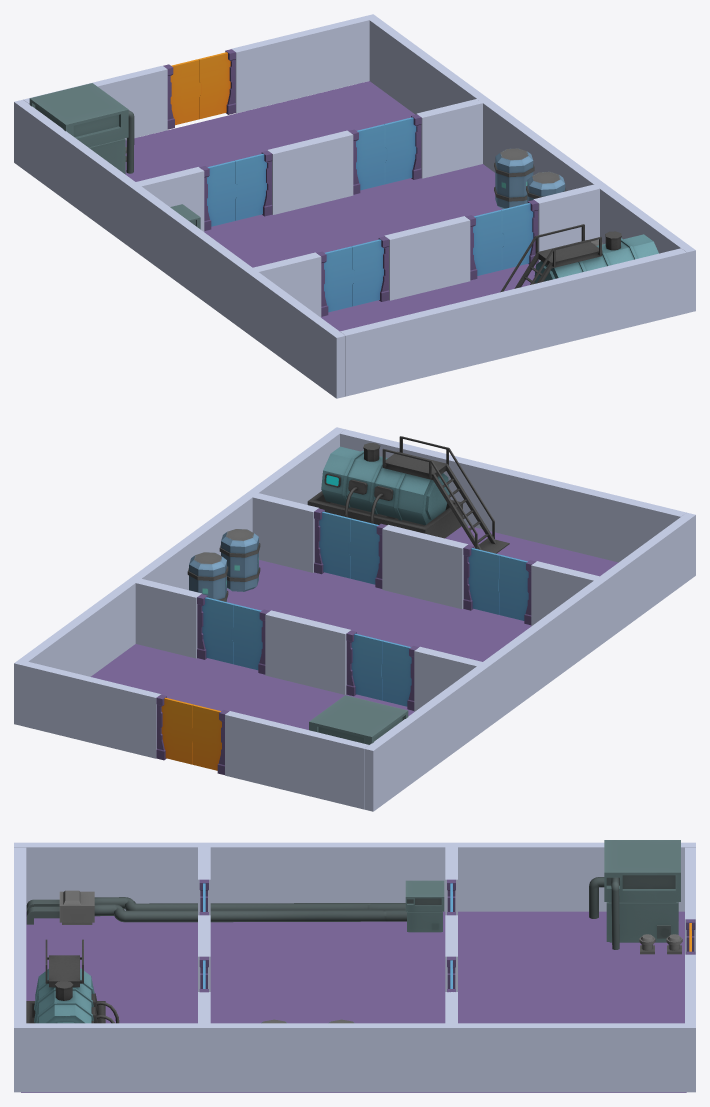
The model's file is maps_02.fbx.
The picture shows the model from 3 angles, top to bottom: view 1: azimuth 30°, elevation 25°; view 2: azimuth 150°, elevation 25°; view 3: azimuth 270°, elevation 25°; orthographic projection. The views are drawn at different scales.
Visible parts, largest first — view 1: wall_01_05_geo, wall_01_01_geo, wall_01_03_geo, wall_01_02_geo, wall_01_12_geo, door_01_geo (×4), door_02_geo (×4), wall_01_06_geo, wall_01_10_geo, generatorStation_05_geo, wall_01_11_geo, tankwater_geo (+10 smaller); view 2: wall_01_05_geo, wall_01_01_geo, wall_01_03_geo, wall_01_02_geo, tankwater_geo, wall_01_04_geo, wall_01_12_geo, door_01_geo (×4), door_02_geo (×4), wall_01_10_geo, wall_01_06_geo, wall_01_11_geo (+10 smaller); view 3: wall_01_05_geo, wall_01_02_geo, wall_01_01_geo, generatorStation_04_geo, generatorStation_05_geo, tankwater_geo, wall_01_03_geo, wall_01_04_geo, wall_01_12_geo, wall_01_06_geo, wall_01_10_geo, wall_01_07_geo (+4 smaller).
Boxes of the visible parts, x1=… form: wall_01_05_geo: x1=125, y1=81, x2=535, y2=331; wall_01_01_geo: x1=14, y1=99, x2=345, y2=398; wall_01_03_geo: x1=340, y1=248, x2=686, y2=396; wall_01_02_geo: x1=365, y1=14, x2=695, y2=313; wall_01_12_geo: x1=231, y1=16, x2=369, y2=113; door_01_geo (×4): x1=235, y1=117, x2=533, y2=306; door_02_geo (×4): x1=207, y1=124, x2=503, y2=312; wall_01_06_geo: x1=384, y1=216, x2=470, y2=300; wall_01_10_geo: x1=267, y1=130, x2=353, y2=214; generatorStation_05_geo: x1=29, y1=83, x2=134, y2=174; wall_01_11_geo: x1=416, y1=99, x2=482, y2=178; tankwater_geo: x1=500, y1=224, x2=658, y2=292; wall_01_05_geo: x1=91, y1=525, x2=618, y2=729; wall_01_01_geo: x1=364, y1=512, x2=695, y2=811; wall_01_03_geo: x1=340, y1=429, x2=686, y2=562; wall_01_02_geo: x1=14, y1=427, x2=345, y2=726; tankwater_geo: x1=307, y1=436, x2=509, y2=553; wall_01_04_geo: x1=225, y1=711, x2=368, y2=809; wall_01_12_geo: x1=23, y1=661, x2=161, y2=758; door_01_geo (×4): x1=202, y1=511, x2=500, y2=700; door_02_geo (×4): x1=232, y1=518, x2=528, y2=706; wall_01_10_geo: x1=265, y1=610, x2=351, y2=694; wall_01_06_geo: x1=382, y1=524, x2=468, y2=609; wall_01_11_geo: x1=135, y1=578, x2=201, y2=658; wall_01_05_geo: x1=21, y1=911, x2=686, y2=1092; wall_01_02_geo: x1=14, y1=1023, x2=695, y2=1092; wall_01_01_geo: x1=14, y1=842, x2=695, y2=911; generatorStation_04_geo: x1=26, y1=880, x2=444, y2=932; generatorStation_05_geo: x1=589, y1=840, x2=680, y2=949; tankwater_geo: x1=26, y1=939, x2=119, y2=1023; wall_01_03_geo: x1=14, y1=847, x2=26, y2=1023; wall_01_04_geo: x1=685, y1=847, x2=695, y2=954; wall_01_12_geo: x1=685, y1=954, x2=695, y2=1023; wall_01_06_geo: x1=198, y1=915, x2=210, y2=991; wall_01_10_geo: x1=445, y1=915, x2=457, y2=991; wall_01_07_geo: x1=198, y1=847, x2=210, y2=915.
Bounding box in the file's own units: 54.88 × 12.35 × 85.35.
Materials: 6 (6 with a texture image).
